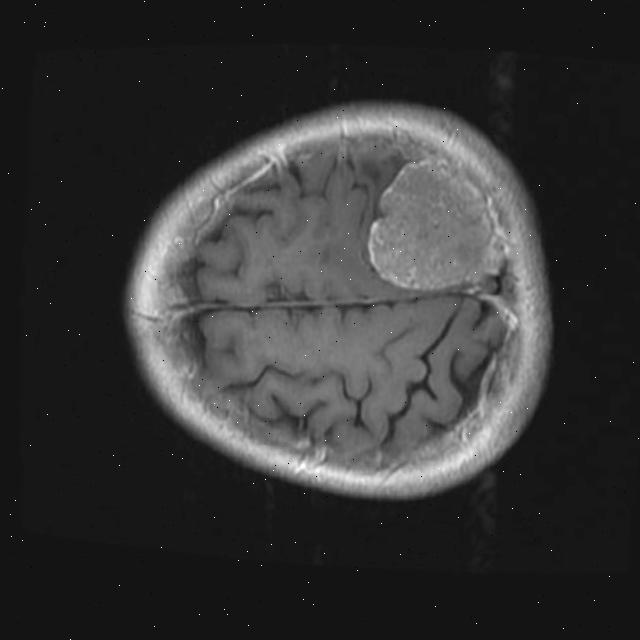Meningioma: (361, 147, 513, 299)
